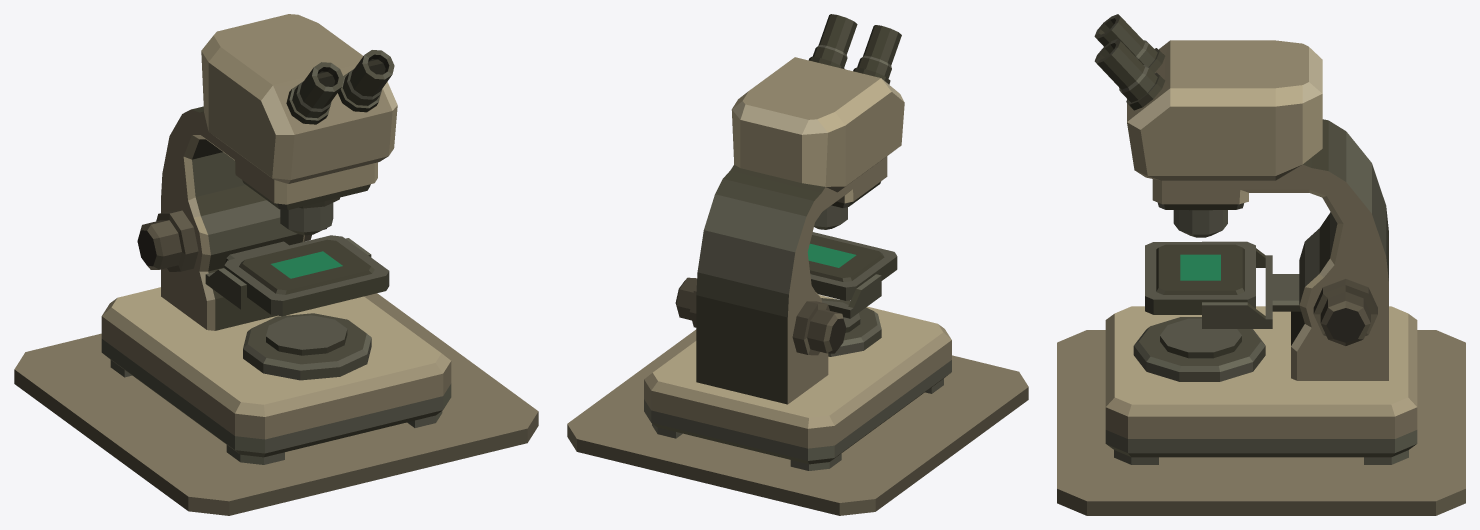
The model's file is CR_Lab2_Microscope.fbx.
The picture shows the model from 3 angles, left to right: view 1: azimuth 30°, elevation 25°; view 2: azimuth 150°, elevation 25°; view 3: azimuth 270°, elevation 25°; orthographic projection. The views are drawn at different scales.
Parts seen in each view (by area): view 1: CR_Lab2_Microscope; view 2: CR_Lab2_Microscope; view 3: CR_Lab2_Microscope.
Boxes of the visible parts, bbox=[...] form: CR_Lab2_Microscope: bbox=[14, 14, 538, 515]; CR_Lab2_Microscope: bbox=[567, 14, 1028, 515]; CR_Lab2_Microscope: bbox=[1057, 14, 1465, 515].
Bounding box in the file's own units: 0.5477 × 0.5985 × 0.5523.
